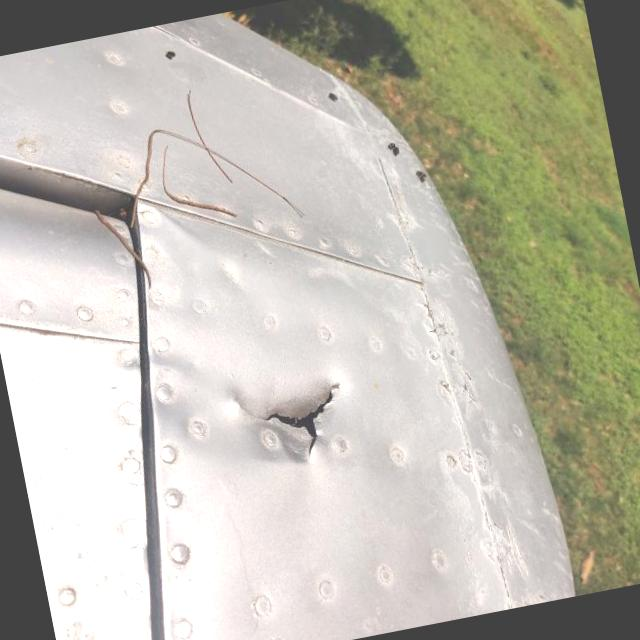crack: (361, 280, 480, 418)
